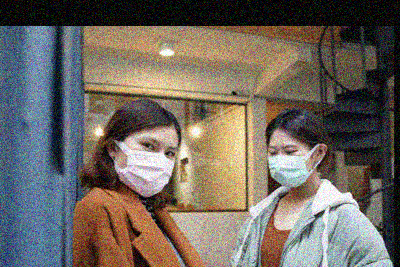with_mask: (118, 136, 178, 199), (266, 143, 314, 189)
